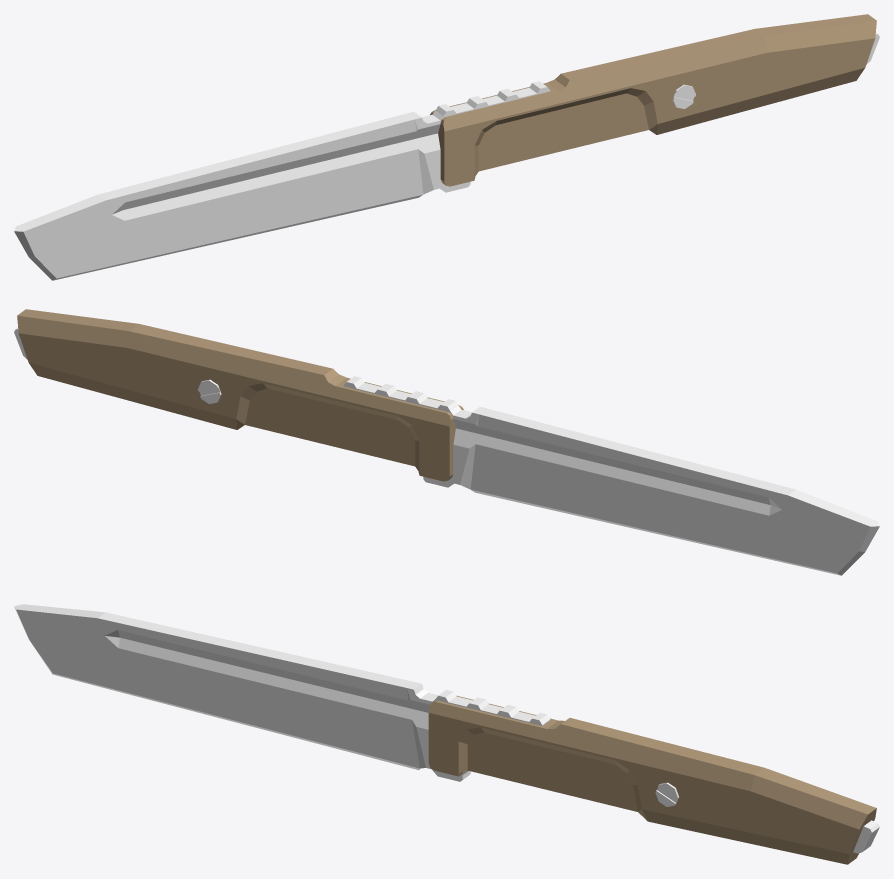
The model's file is extrema_ratio_mamba_sw_desert.glb.
3 renders of one model, top to bottom at view 1: azimuth 30°, elevation 25°; view 2: azimuth 150°, elevation 25°; view 3: azimuth 330°, elevation 25°, orthographic.
Visible parts, largest first — view 1: Cube.001_0; view 2: Cube.001_0; view 3: Cube.001_0.
Part boxes in pixels (x1,y1,x2,y2): Cube.001_0: (14, 14, 879, 280); Cube.001_0: (14, 309, 879, 575); Cube.001_0: (14, 604, 879, 864).
Size of the model in its own units: 2.38 by 0.2242 by 0.0869.
